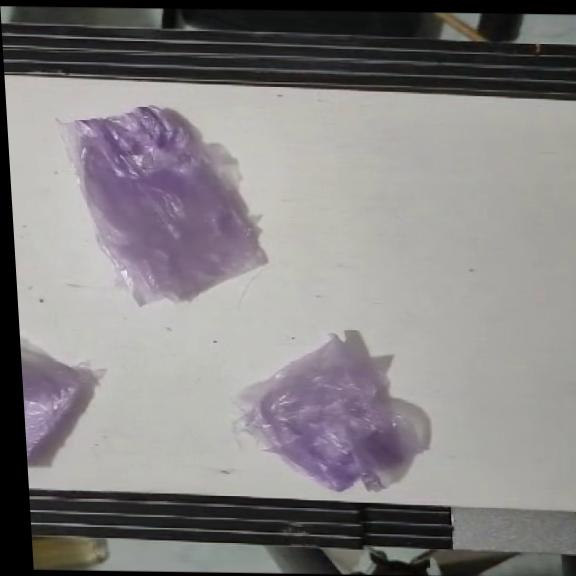Plastik: (52, 106, 267, 309), (233, 332, 422, 494), (21, 353, 97, 464)
